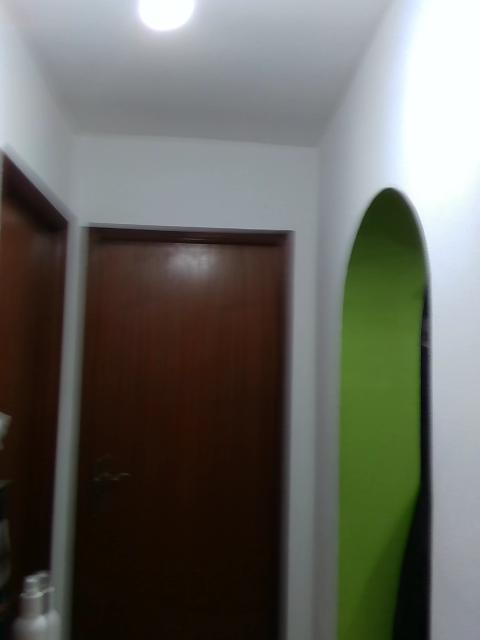door: (94, 240, 279, 640)
